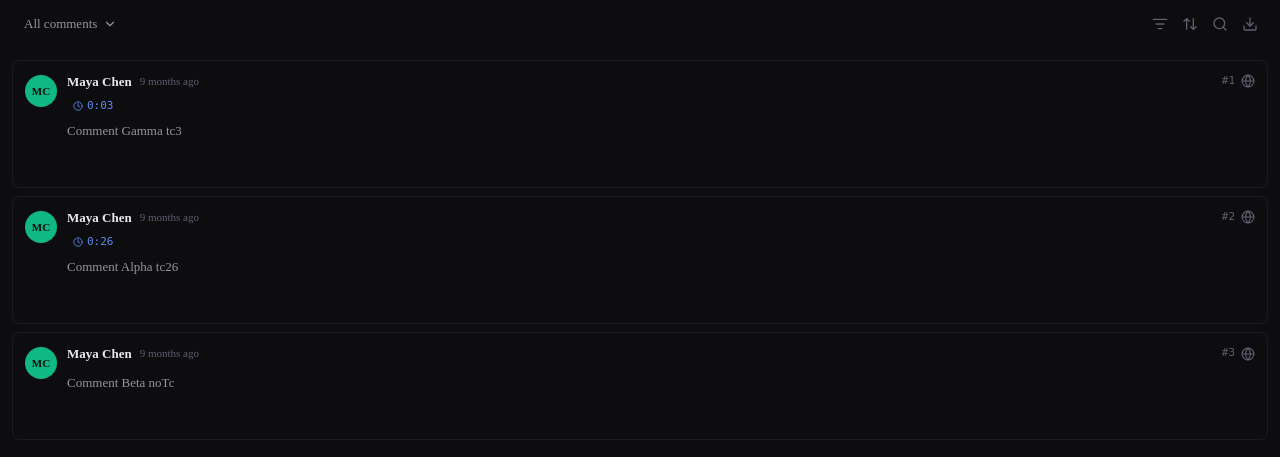
Scenario: CommentPanel sort modes › menu offers Timecode (Default), Oldest, Newest, Commenter, Completed — in that order
Click the button titled "Sort" at (1190, 24), box [1176,10,1204,38]
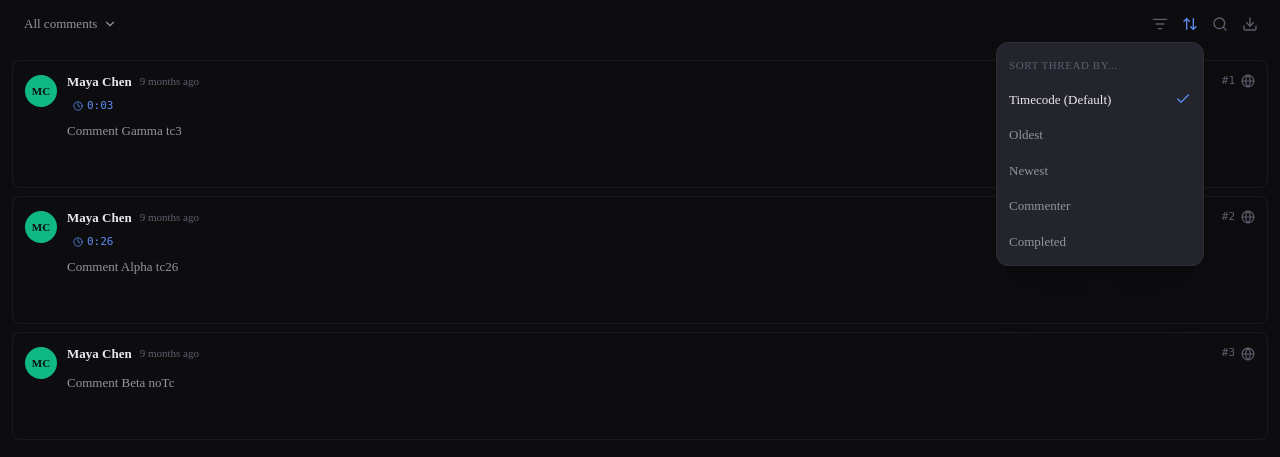
Result: the buttons read "Timecode (Default)", "Oldest", "Newest", "Commenter", "Completed", in this order at [997,82,1203,117]; [997,117,1203,152]; [997,152,1203,188]; [997,188,1203,224]; [997,224,1203,259]
